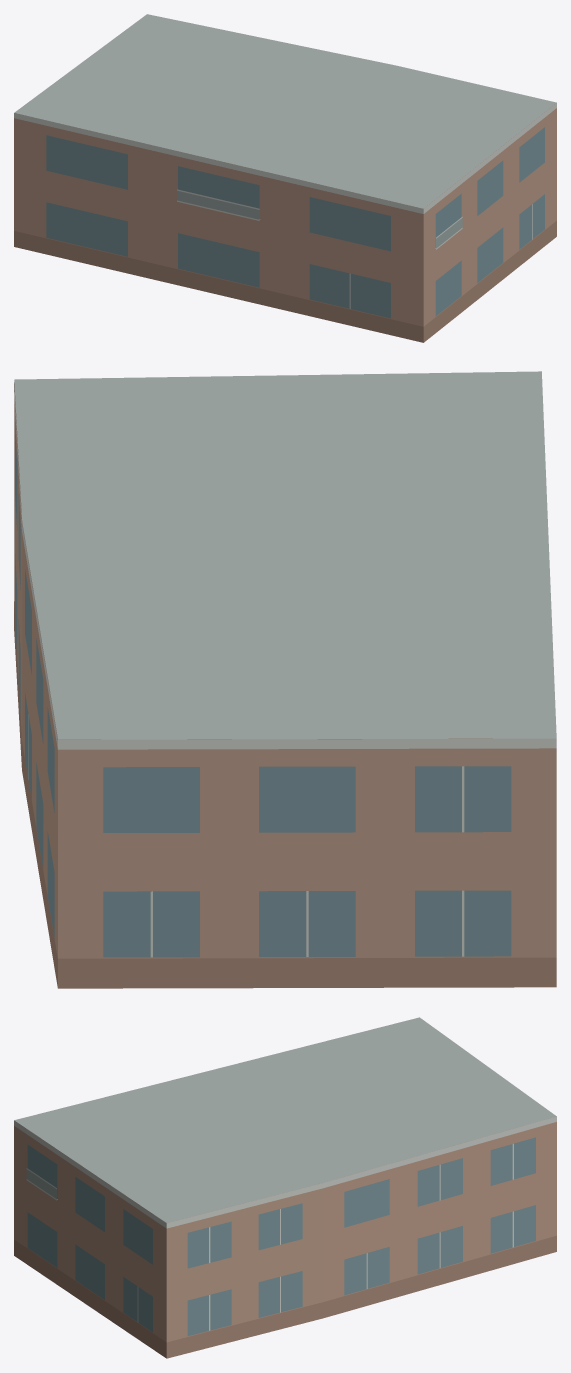
File: survey-upis-32475493.glb
3 renders of one model, top to bottom at view 1: azimuth 30°, elevation 25°; view 2: azimuth 150°, elevation 25°; view 3: azimuth 270°, elevation 25°, orthographic. The views are drawn at different scales.
Parts seen in each view (by area): view 1: survey-upis-32475493.tmp; view 2: survey-upis-32475493.tmp; view 3: survey-upis-32475493.tmp.
Part boxes in pixels (<box>): survey-upis-32475493.tmp: <box>14,14,556,342</box>; survey-upis-32475493.tmp: <box>14,371,556,988</box>; survey-upis-32475493.tmp: <box>14,1017,556,1358</box>.
Size of the model in its own units: 19.89 by 6.1 by 22.17.
